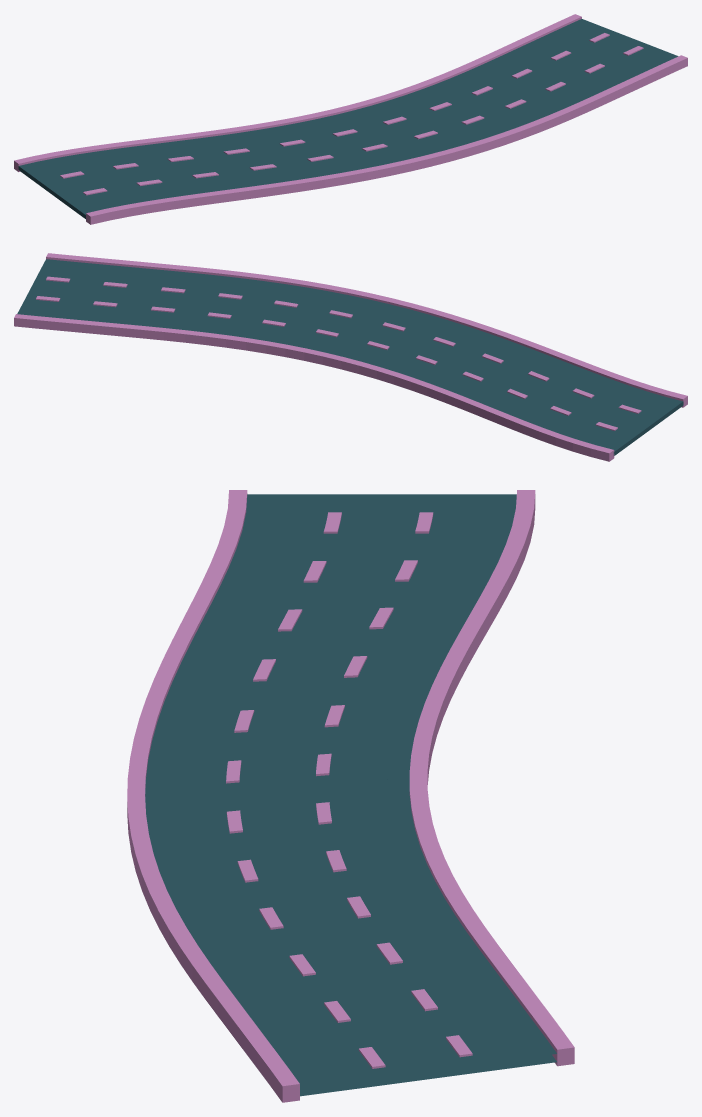
The model's file is weg4.obj.
3 renders of one model, top to bottom at view 1: azimuth 30°, elevation 25°; view 2: azimuth 150°, elevation 25°; view 3: azimuth 270°, elevation 25°, orthographic. The views are drawn at different scales.
Parts seen in each view (by area): view 1: Cube.001; view 2: Cube.001; view 3: Cube.001.
Part boxes in pixels (x1=…): Cube.001: x1=14, y1=14, x2=687, y2=224; Cube.001: x1=14, y1=253, x2=687, y2=461; Cube.001: x1=127, y1=490, x2=574, y2=1102.
Bounding box in the file's own units: 61.7 × 0.8 × 19.58.
32 materials, 32 textured.
